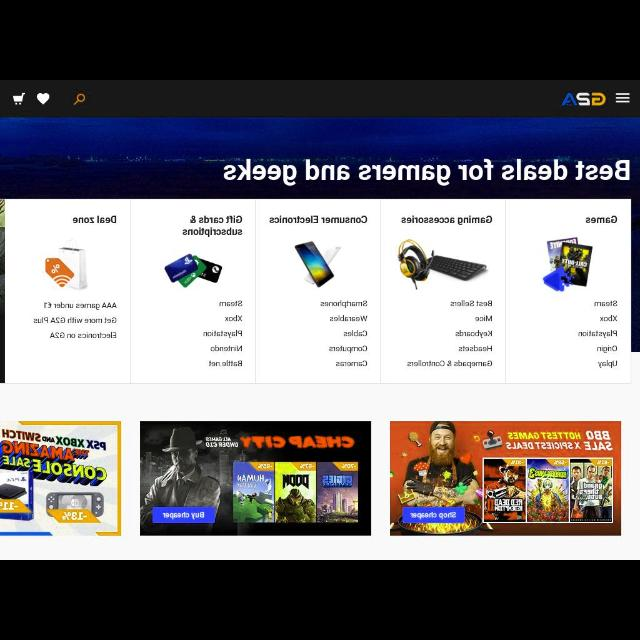icon: (616, 92, 630, 105), (12, 92, 26, 105), (36, 93, 50, 105), (74, 94, 86, 105)
iframe: (390, 421, 622, 535), (142, 421, 370, 535), (1, 424, 117, 532)
image: (397, 238, 487, 292), (541, 236, 595, 292), (44, 240, 90, 290), (294, 240, 340, 288), (166, 254, 222, 288), (560, 92, 606, 106)
text: (222, 160, 630, 187), (33, 301, 117, 339), (182, 215, 242, 241), (267, 214, 367, 226), (400, 216, 492, 224), (408, 360, 492, 368), (318, 298, 369, 308), (72, 216, 116, 227), (328, 344, 368, 354), (203, 330, 243, 340), (456, 328, 492, 338), (333, 358, 369, 368), (450, 298, 494, 306), (457, 343, 491, 353), (576, 331, 618, 339), (210, 343, 243, 353), (586, 215, 618, 225), (328, 315, 368, 323), (205, 360, 242, 368), (592, 298, 618, 308), (344, 328, 368, 338), (596, 346, 618, 356), (596, 359, 618, 369), (218, 300, 244, 308), (598, 315, 618, 323), (473, 315, 493, 323), (224, 314, 244, 322)
toolbar: (1, 82, 639, 118)
